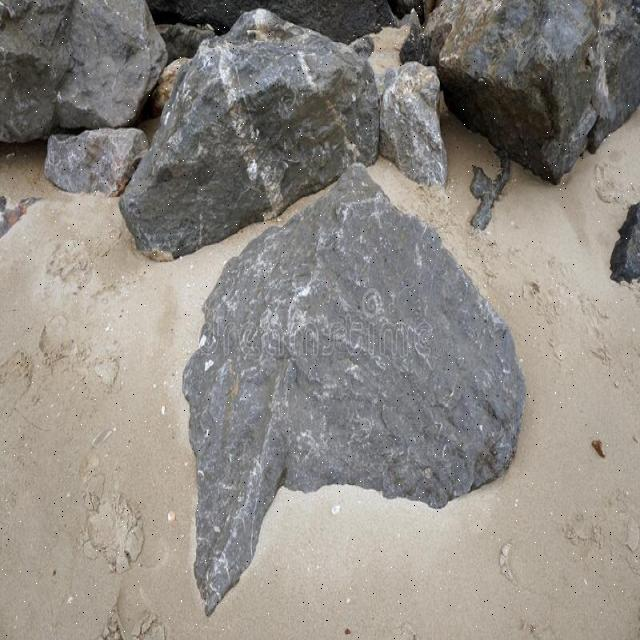Sedimentary: (148, 173, 554, 617), (117, 23, 386, 254), (443, 5, 640, 186), (611, 187, 640, 280)
